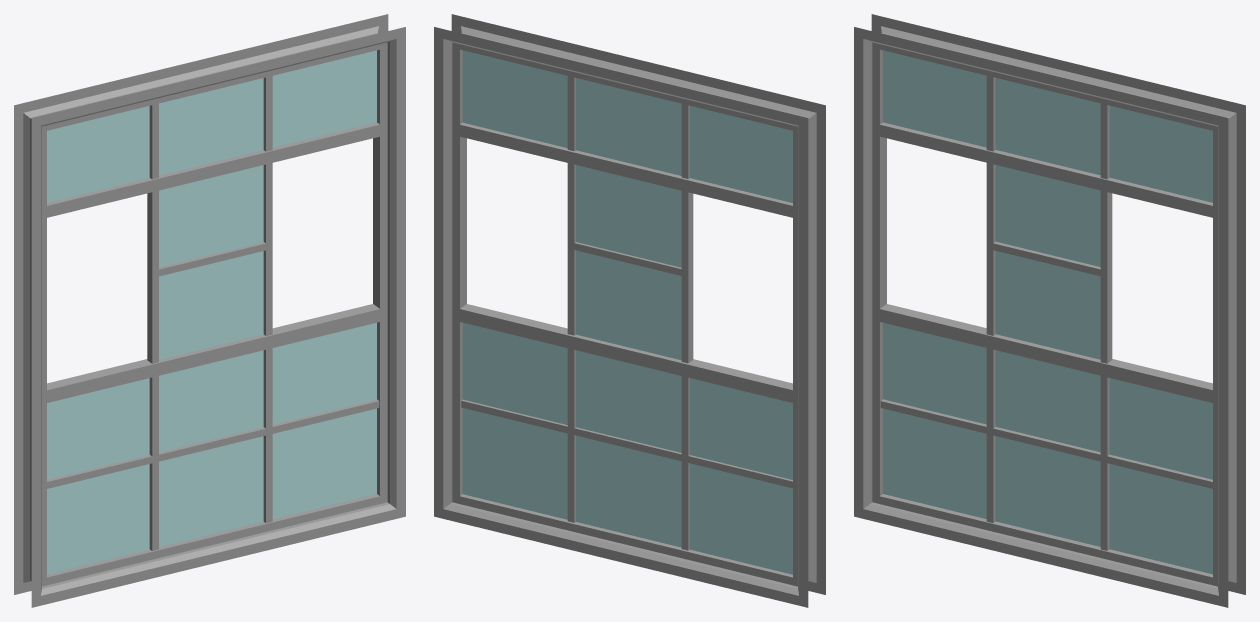
File: Window.fbx
3 renders of one model, left to right at view 1: azimuth 30°, elevation 25°; view 2: azimuth 150°, elevation 25°; view 3: azimuth 330°, elevation 25°, orthographic.
Parts seen in each view (by area): view 1: Window; view 2: Window; view 3: Window.
Part boxes in pixels (left/top/right/bottom): Window: left=14, top=14, right=405, bottom=607; Window: left=434, top=14, right=825, bottom=607; Window: left=854, top=14, right=1245, bottom=607.
Size of the model in its own units: 4 by 5 by 0.3237.
